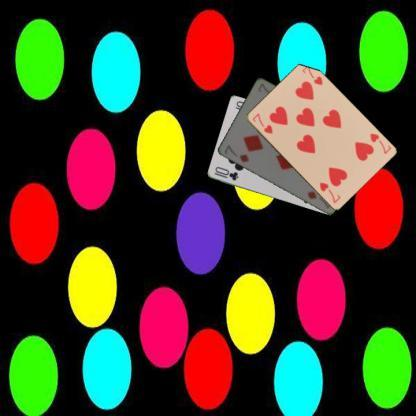10c: (211, 164, 240, 182)
7d: (221, 142, 250, 164)
7h: (249, 110, 274, 136), (368, 130, 392, 156)
